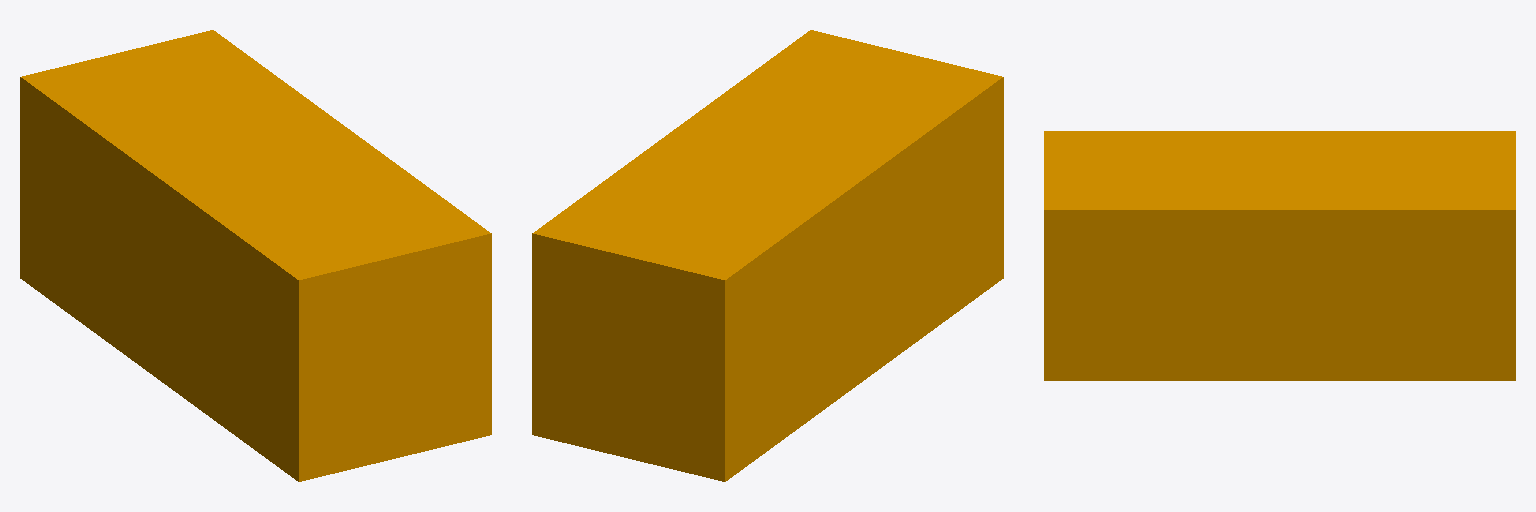
The robot description file, URDF, robot "boxA":
<?xml version="1.0"?>
<robot name="boxA">
  <material name="Wood">
    <color rgba="0.827 0.675 0.463 1.0"/>
  </material>
  <material name="Color">
    <color rgba="0.631, 0.125, 0.125, 1.0"/>
  </material>
  <material name="Black">
    <color rgba="0.1, 0.1, 0.1, 1.0"/>
  </material>
  <link name="base_link">
     <inertial>
      <mass value="0.5" />
      <!-- center of mass (com) is defined w.r.t. link local coordinate system -->
      <origin xyz="0 0 0" rpy="0 0 0"/>
      <inertia  ixx="0.01" ixy="0.0"  ixz="0.0"  iyy="0.01"  iyz="0.0"  izz="0.01" />
    </inertial>
    <visual>
      <origin xyz="0 0 -0.02" rpy="0 0 0" />
      <geometry>
        <box size="0.04 0.10 0.04" />
      </geometry>
      <material name="Black"/>
    </visual>
    <collision>
      <origin xyz="0 0 -0.02" rpy="0 0 0" />
      <geometry>
        <box size="0.04 0.10 0.04" />
      </geometry>
    </collision>
  </link>
</robot>

--- What the picture shows (computed from the rendered views, not written in the file) ---
The picture shows the robot from 3 angles, left to right: view 1: azimuth 30°, elevation 25°; view 2: azimuth 150°, elevation 25°; view 3: azimuth 270°, elevation 25°; orthographic projection.
Robot: boxA — 1 links, 0 joints (none); root link base_link; default pose: all joints at 0.
Links seen in each view (by area): view 1: base_link; view 2: base_link; view 3: base_link.
Link boxes in pixels (x1,y1,x2,y2): base_link: (20,30,491,481); base_link: (532,30,1003,481); base_link: (1044,131,1515,380).
Bounding box of the posed robot: 0.04 × 0.1 × 0.04 m (x, y, z).
Geometry: primitives only (box / cylinder / sphere), no mesh files.
